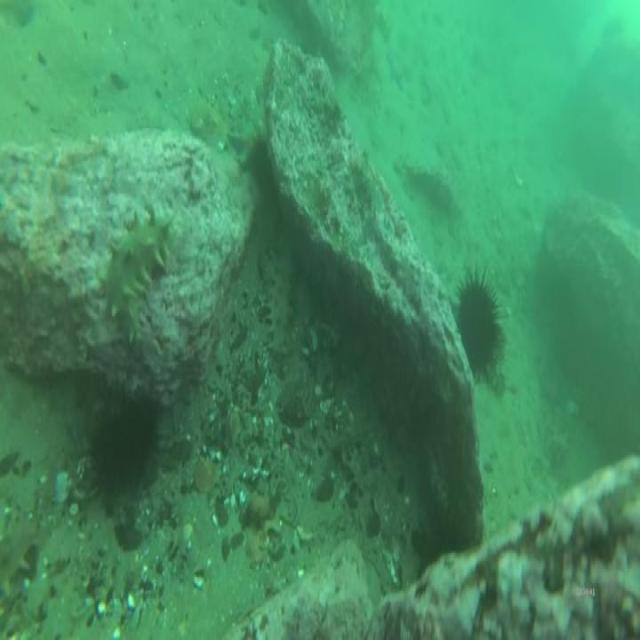echinus: (94, 392, 156, 495), (459, 278, 497, 375)
holothurian: (103, 210, 173, 346), (266, 237, 300, 352)
starfish: (230, 117, 260, 169)
